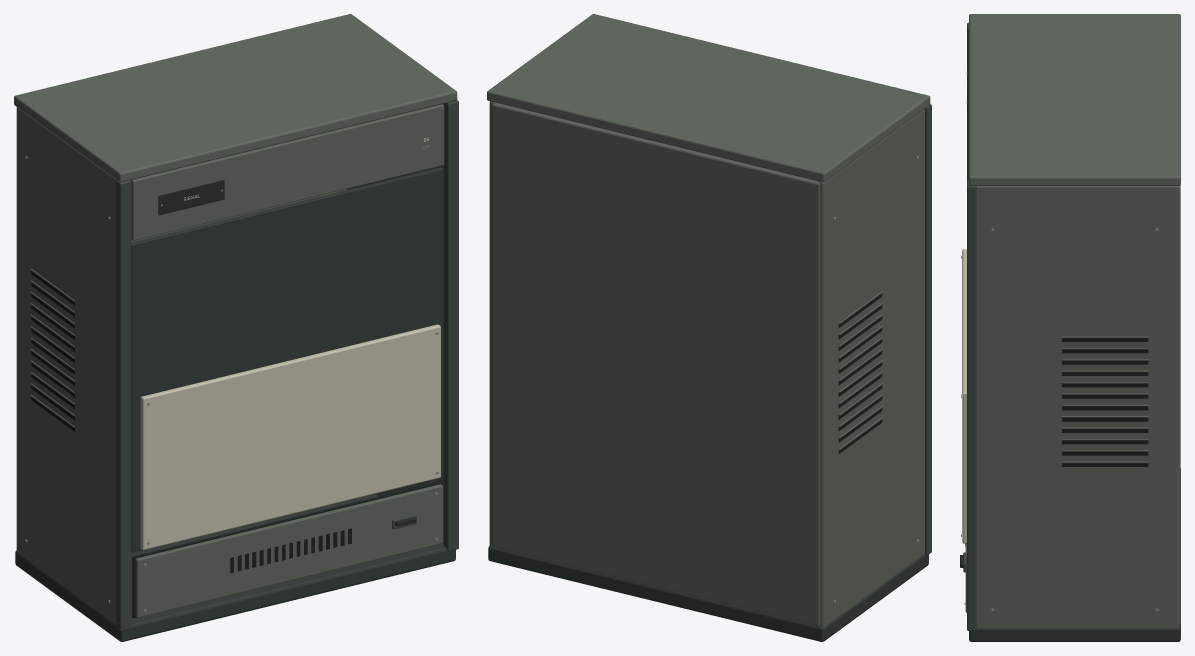
File: SIGNAL_Cabinet.fbx
The picture shows the model from 3 angles, left to right: view 1: azimuth 30°, elevation 25°; view 2: azimuth 150°, elevation 25°; view 3: azimuth 270°, elevation 25°; orthographic projection.
Visible parts, largest first — view 1: SIGNAL_Cabinet_EXPORT; view 2: SIGNAL_Cabinet_EXPORT; view 3: SIGNAL_Cabinet_EXPORT.
Part boxes in pixels (bbox=[...]): SIGNAL_Cabinet_EXPORT: bbox=[14, 14, 458, 641]; SIGNAL_Cabinet_EXPORT: bbox=[487, 14, 931, 641]; SIGNAL_Cabinet_EXPORT: bbox=[960, 14, 1180, 641].
Bounding box in the file's own units: 1.8 × 2.38 × 1.02.
